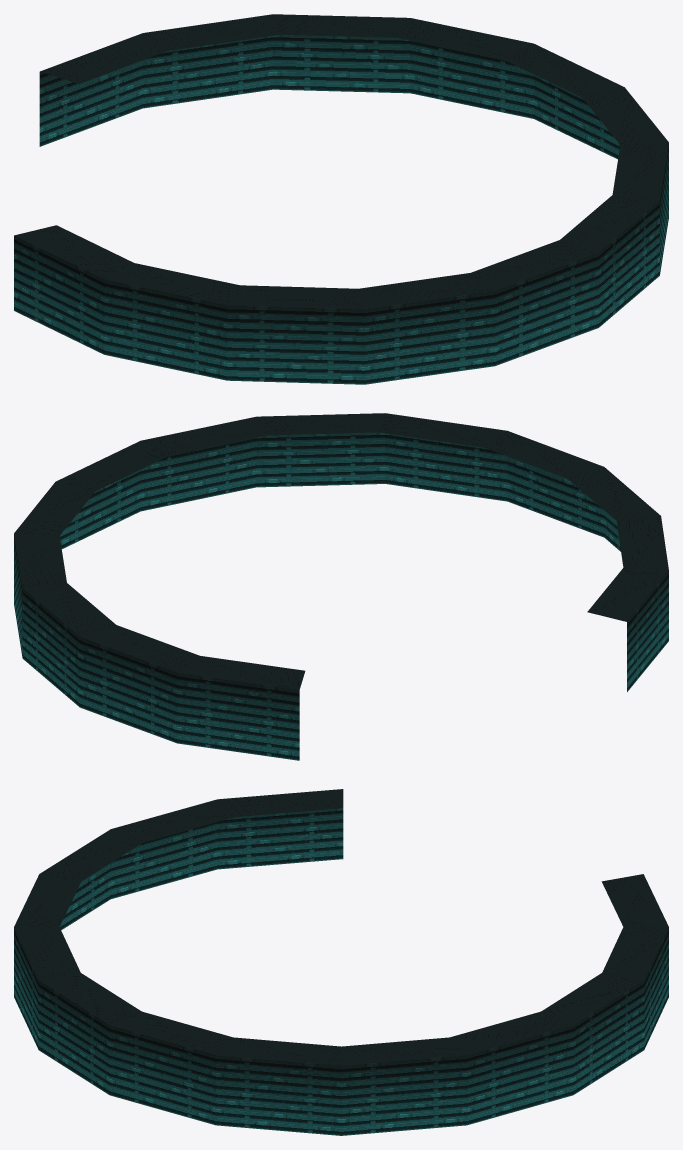
File: wall_extension.glb
3 views of the same model, one above another, from view 1: azimuth 30°, elevation 25°; view 2: azimuth 150°, elevation 25°; view 3: azimuth 270°, elevation 25° (orthographic). The views are drawn at different scales.
Parts seen in each view (by area): view 1: WallExtension; view 2: WallExtension; view 3: WallExtension.
Part boxes in pixels (box(x1,y1,x2,y2)): WallExtension: box(14, 14, 668, 384); WallExtension: box(14, 413, 668, 760); WallExtension: box(14, 789, 668, 1135).
Size of the model in its own units: 215 by 25.46 by 215.
Materials: 1 (1 with a texture image).
